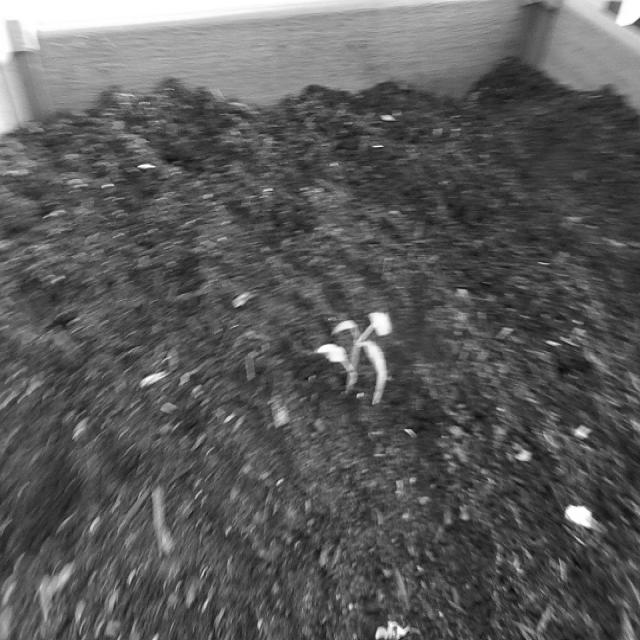Healthy: (308, 291, 402, 420)
